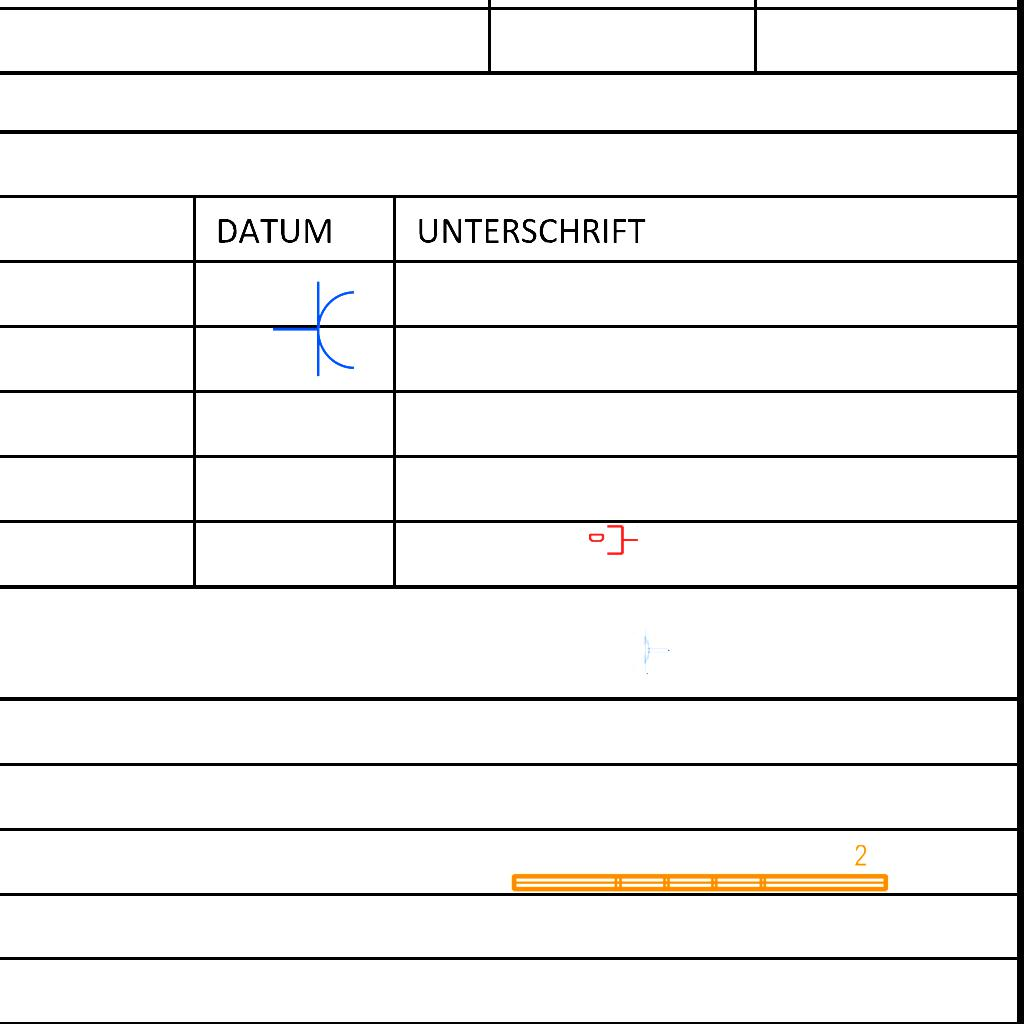Ambulanz_Pendelleuchte_LED: (506, 842, 893, 898)
Datenanschluss_einfach: (589, 523, 639, 557)
Schukosteckdose_einfach: (272, 280, 359, 380), (627, 625, 670, 675)
